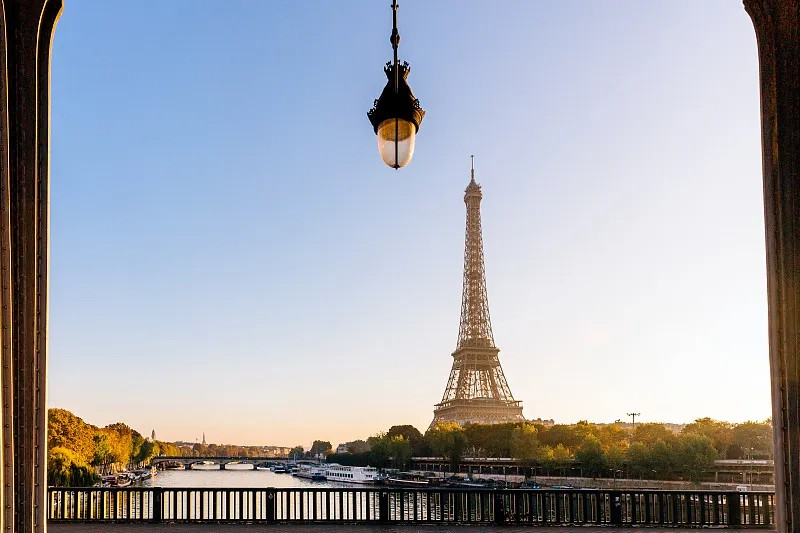Eiffel: (425, 155, 525, 438)
